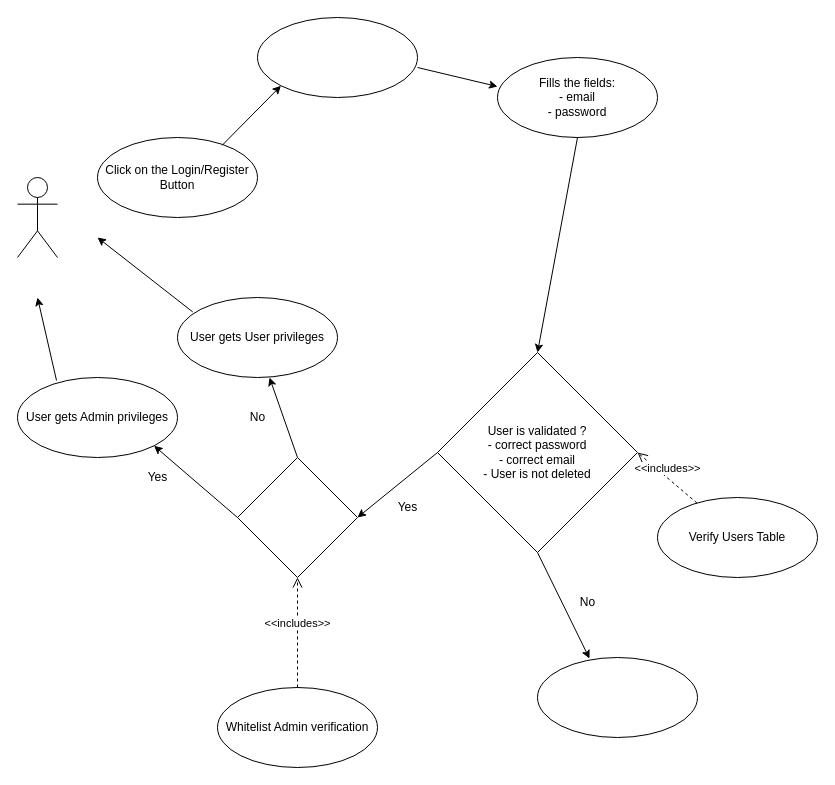
The diagram is 835 pixels wide and 785 high, and some of its shapes have lost their labels. The shapes that lost their labels are listed below. From the top down, each one's centre as x and y in pixels, then its label:
At (x=337, y=57): "Click on Login Button".
At (x=37, y=217): "User".
At (x=297, y=517): "User is admin ?".
At (x=617, y=697): "User rejected: error: -wrong password - not in database - User deleted".
